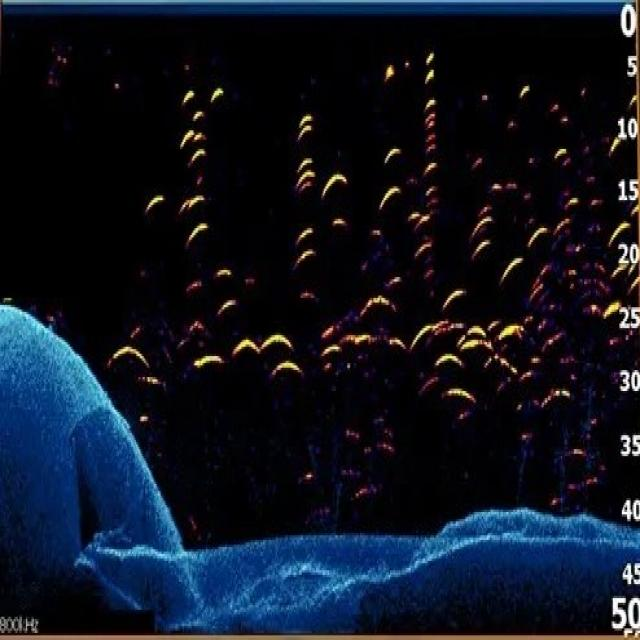fish: (104, 333, 149, 370), (359, 284, 398, 321), (438, 375, 477, 405), (320, 161, 349, 200), (498, 244, 522, 288), (604, 210, 630, 247), (228, 330, 259, 361), (498, 316, 528, 347), (255, 324, 292, 349), (267, 354, 306, 377), (409, 316, 432, 352), (191, 347, 224, 372), (430, 344, 461, 370), (184, 216, 209, 247), (526, 216, 549, 249), (442, 275, 465, 307), (458, 324, 484, 352), (377, 177, 399, 209), (289, 240, 313, 268), (601, 289, 622, 321), (178, 188, 205, 210), (142, 186, 166, 210), (290, 165, 312, 191), (470, 207, 492, 233), (469, 233, 490, 258), (293, 217, 312, 244), (409, 235, 433, 256), (549, 140, 569, 165), (214, 293, 237, 314), (382, 137, 400, 163), (516, 74, 531, 105), (188, 142, 208, 165), (178, 79, 195, 105), (208, 79, 225, 105), (294, 149, 314, 170), (176, 123, 193, 147), (213, 258, 230, 280), (293, 107, 312, 126), (414, 210, 432, 230), (321, 338, 338, 358), (297, 118, 311, 140), (420, 63, 434, 84), (421, 156, 437, 174), (422, 95, 436, 112), (406, 203, 417, 221), (422, 49, 436, 63)
